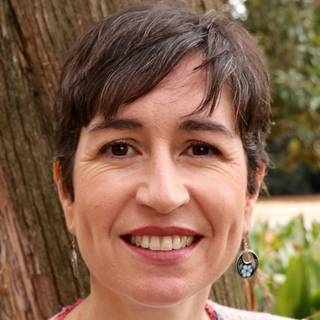eye: (172, 132, 225, 166), (92, 134, 147, 164)
